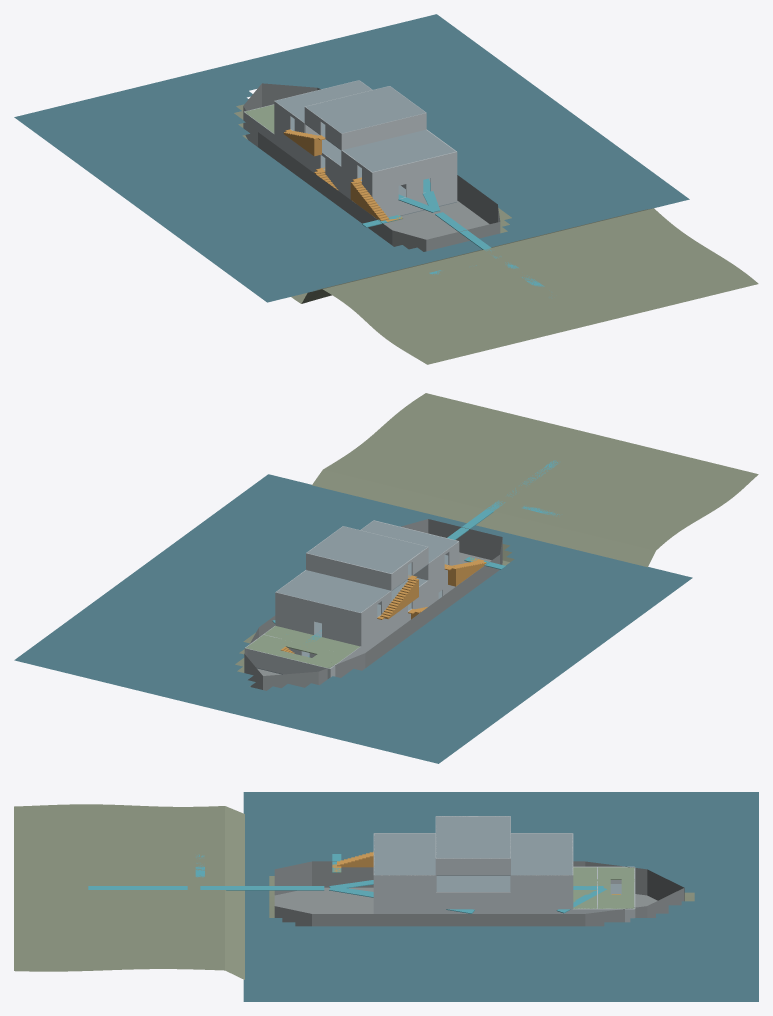
Rendered from furnished.glb.
3 renders of one model, top to bottom at view 1: azimuth 30°, elevation 25°; view 2: azimuth 150°, elevation 25°; view 3: azimuth 270°, elevation 25°, orthographic.
Parts seen in each view (by area): view 1: WATER PLACEHOLDER / layers and transparency pending, Authored quay terrain, Pointed retired vessel hull / empty interior, Ceiling cap bridge, Ceiling cap crew, Wall crew S, Wall bridge S, Ceiling cap net, Wall engine S; view 2: WATER PLACEHOLDER / layers and transparency pending, Authored quay terrain, Pointed retired vessel hull / empty interior, Ceiling cap bridge, Ceiling cap net, Wall bridge N, Wall net N, Ceiling cap crew, Wall pump N, Wall processing N.001, Wall processing N, Floor fore.004; view 3: WATER PLACEHOLDER / layers and transparency pending, Authored quay terrain, Pointed retired vessel hull / empty interior, Ceiling cap bridge, Ceiling cap net, Ceiling cap crew, Wall processing E, Wall bridge E, Ceiling cap processing, Wall net E, Wall mess E, Wall crew E (+6 smaller).
Part boxes in pixels (x1,y1,x2,y2): WATER PLACEHOLDER / layers and transparency pending: (14, 14, 689, 302); Authored quay terrain: (234, 104, 758, 364); Pointed retired vessel hull / empty interior: (243, 83, 500, 251); Ceiling cap bridge: (305, 86, 425, 133); Ceiling cap crew: (342, 130, 455, 171); Wall crew S: (372, 151, 456, 188); Wall bridge S: (341, 113, 426, 149); Ceiling cap net: (275, 80, 371, 122); Wall engine S: (374, 185, 456, 217); WATER PLACEHOLDER / layers and transparency pending: (14, 474, 692, 763); Authored quay terrain: (235, 393, 758, 686); Pointed retired vessel hull / empty interior: (244, 519, 502, 690); Ceiling cap bridge: (307, 526, 427, 573); Ceiling cap net: (276, 570, 390, 612); Wall bridge N: (306, 553, 391, 590); Wall net N: (275, 592, 360, 629); Ceiling cap crew: (361, 520, 457, 562); Wall pump N: (245, 648, 329, 678); Wall processing N.001: (275, 609, 314, 634); Wall processing N: (322, 620, 360, 646); Floor fore.004: (286, 633, 335, 654); WATER PLACEHOLDER / layers and transparency pending: (243, 792, 758, 1001); Authored quay terrain: (14, 804, 694, 979); Pointed retired vessel hull / empty interior: (274, 861, 684, 926); Ceiling cap bridge: (436, 816, 510, 858); Ceiling cap net: (511, 833, 572, 875); Ceiling cap crew: (374, 833, 435, 875); Wall processing E: (436, 892, 572, 909); Wall bridge E: (436, 858, 510, 875); Ceiling cap processing: (436, 876, 510, 891); Wall net E: (510, 875, 572, 892); Wall mess E: (374, 892, 435, 909); Wall crew E: (374, 875, 435, 892).
Size of the model in its own units: 80 by 14.25 by 120.
